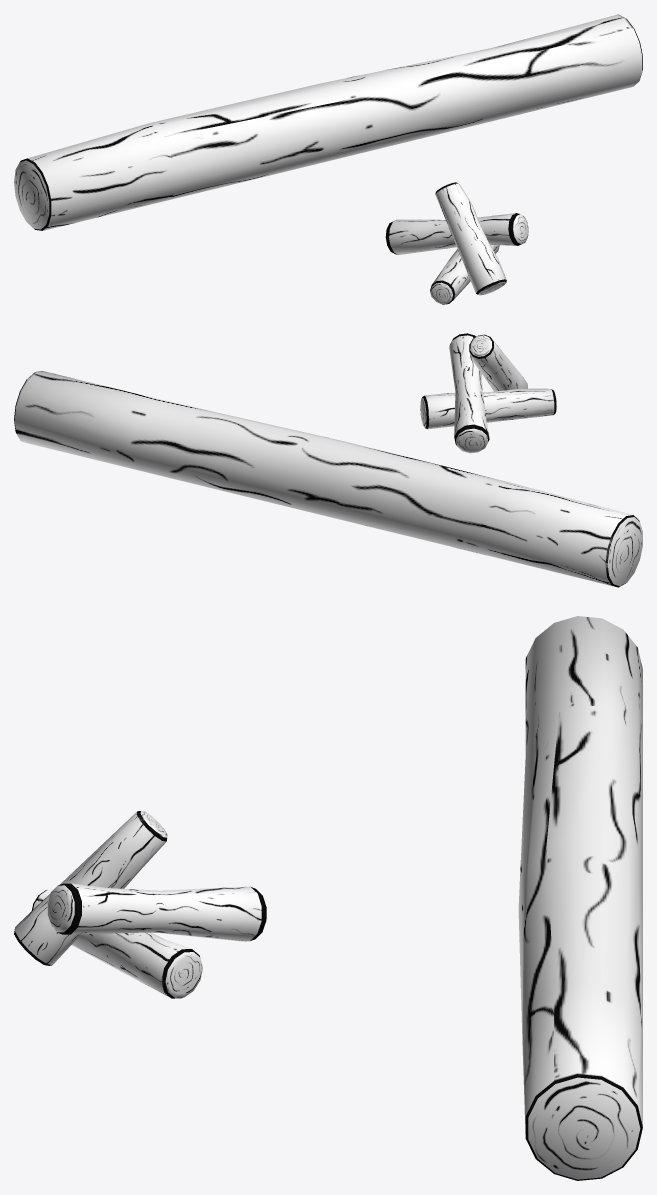
The model's file is Campfire.fbx.
3 views of the same model, one above another, from view 1: azimuth 30°, elevation 25°; view 2: azimuth 150°, elevation 25°; view 3: azimuth 270°, elevation 25° (orthographic). The views are drawn at different scales.
Visible parts, largest first — view 1: Cylinder.001; view 2: Cylinder.001; view 3: Cylinder.001.
Boxes of the visible parts, box(x1,y1,x2,y2) form: Cylinder.001: box(14, 14, 642, 304); Cylinder.001: box(14, 333, 642, 587); Cylinder.001: box(14, 616, 642, 1180).
Bounding box in the file's own units: 8.46 × 1.28 × 4.89.
